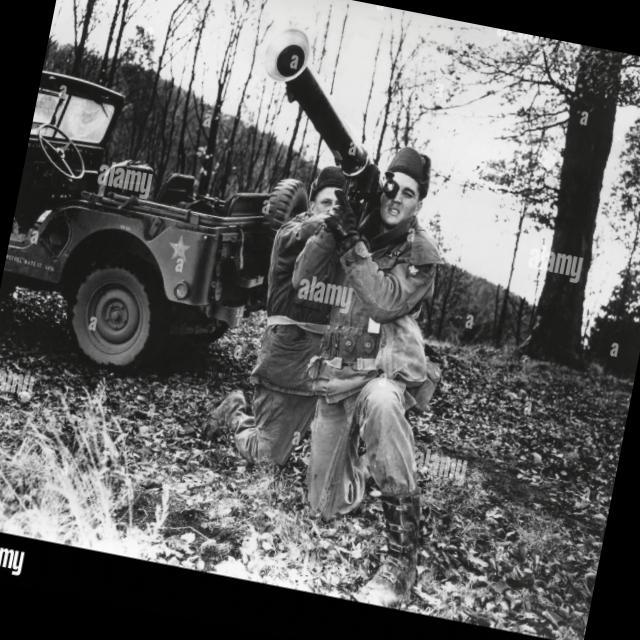rocket: (254, 20, 400, 194)
